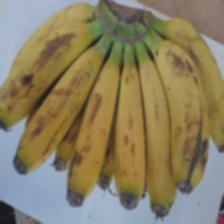banana: (41, 1, 223, 184)
